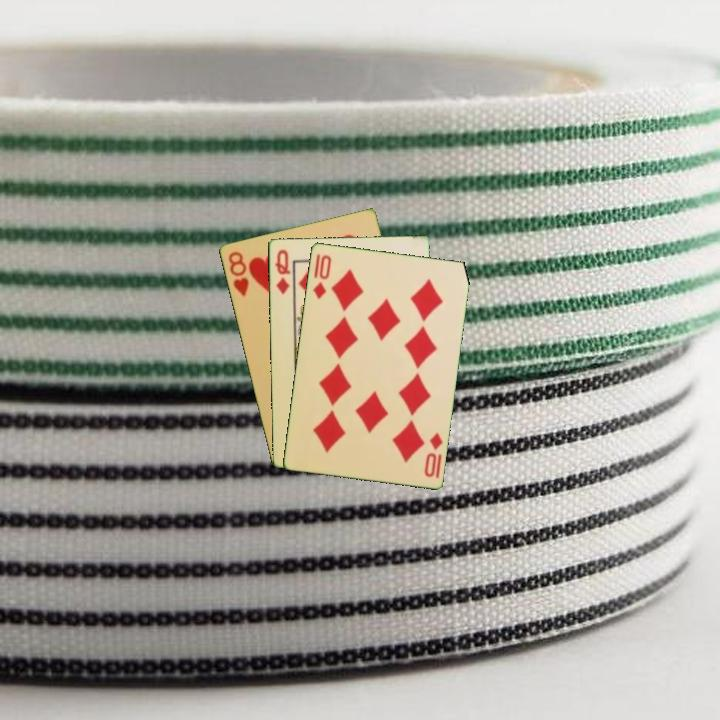10d: (309, 250, 334, 302), (420, 429, 445, 481)
8h: (224, 248, 251, 299)
Qd: (271, 246, 293, 297)
